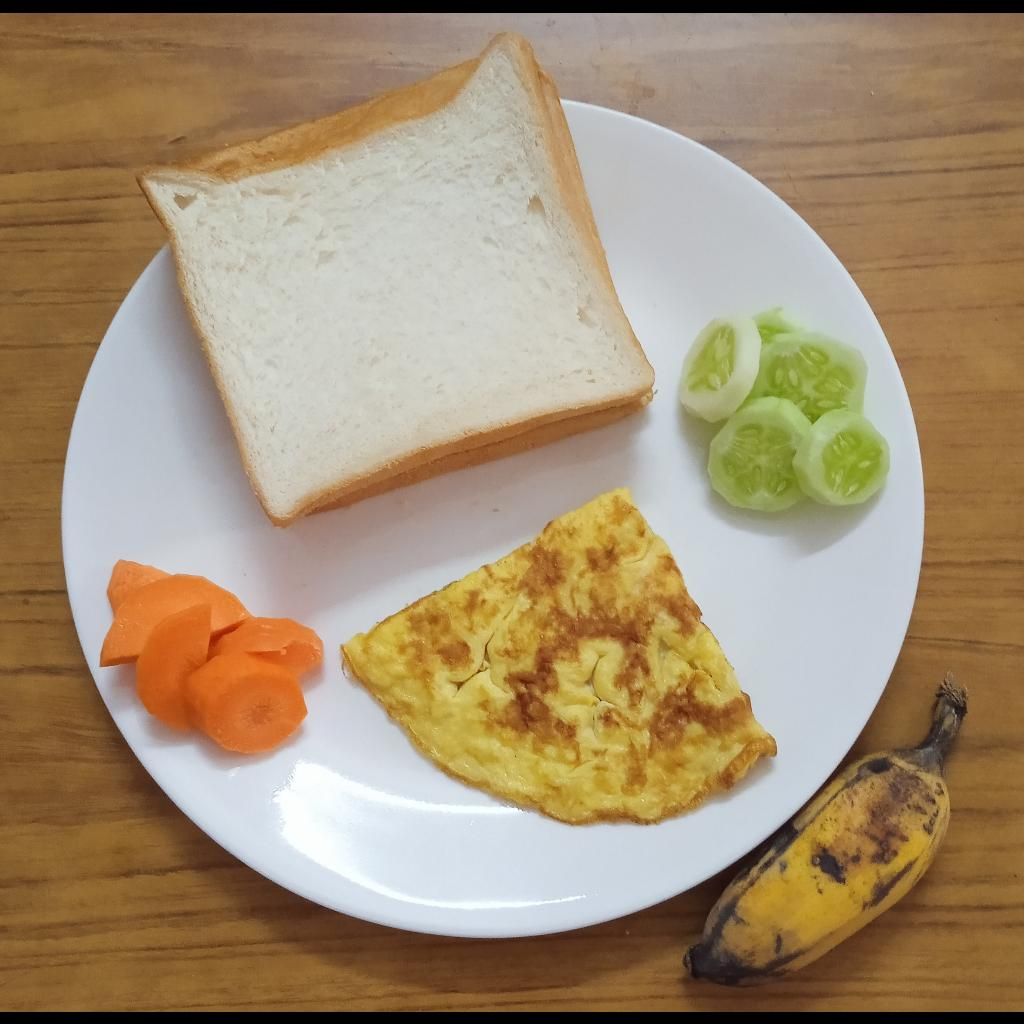banana: (680, 672, 969, 987)
bread: (133, 32, 658, 528)
carrot: (101, 561, 323, 752)
cucumber: (677, 306, 890, 512)
egg-poached: (339, 486, 778, 824)
